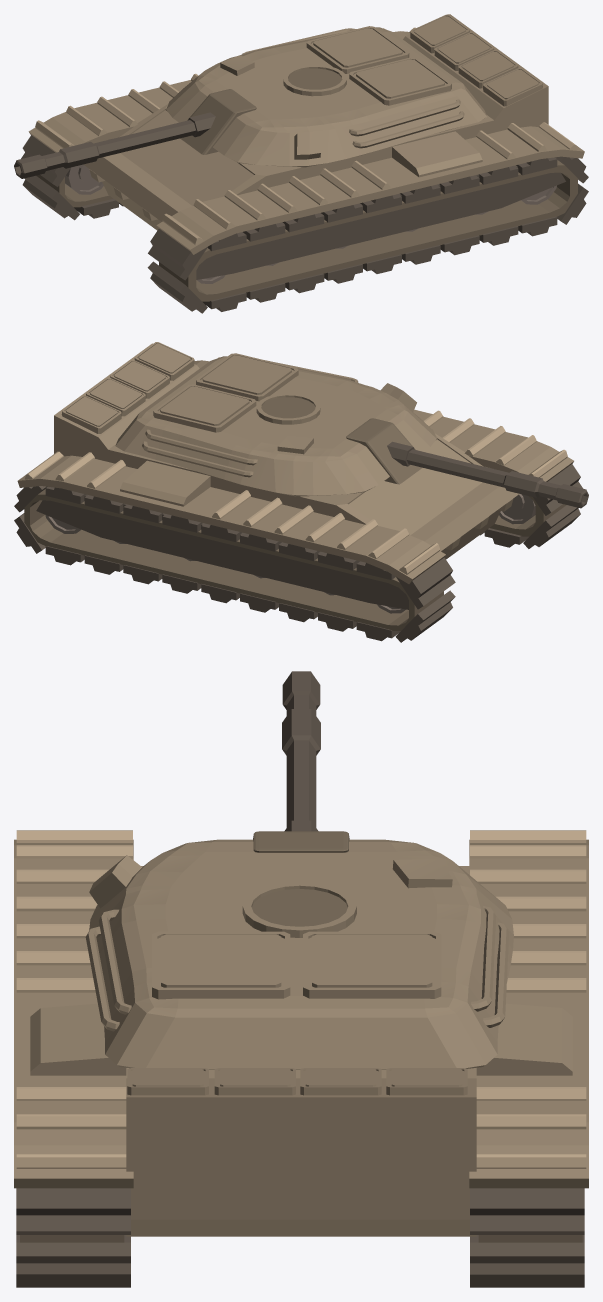
File: camp-vehicles-vehicle-tank-2.glb
3 renders of one model, top to bottom at view 1: azimuth 30°, elevation 25°; view 2: azimuth 150°, elevation 25°; view 3: azimuth 270°, elevation 25°, orthographic. The views are drawn at different scales.
Visible parts, largest first — view 1: camp-vehicles-vehicle-tank-2; view 2: camp-vehicles-vehicle-tank-2; view 3: camp-vehicles-vehicle-tank-2.
Boxes of the visible parts, box(x1,y1,x2,y2) form: camp-vehicles-vehicle-tank-2: box(14, 14, 588, 313); camp-vehicles-vehicle-tank-2: box(14, 342, 588, 642); camp-vehicles-vehicle-tank-2: box(14, 671, 588, 1287).
Bounding box in the file's own units: 7 × 2.22 × 4.
